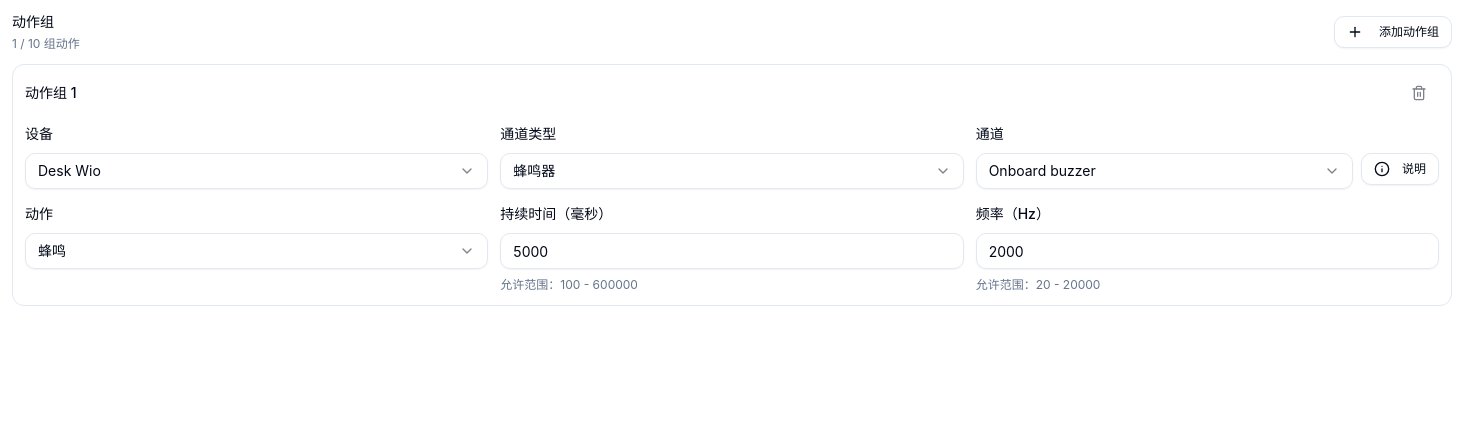
Scenario: DeviceChannelOutputFields › adds pattern action for legacy Wio buzzer channel from device extension capability
Step 1. Click the dropdown named "动作" → (52, 250), box [25, 233, 488, 269]
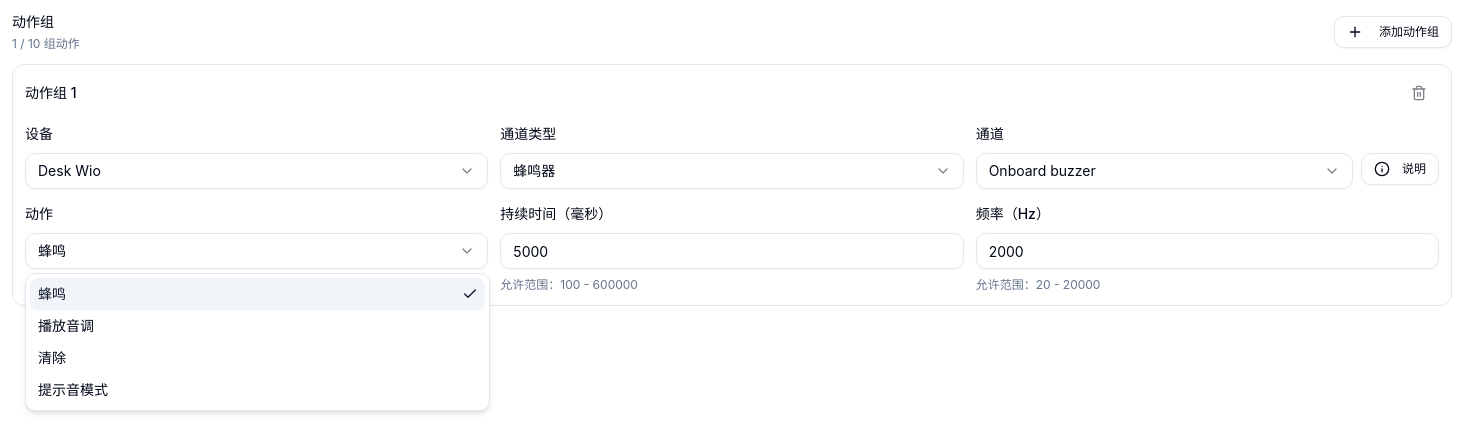
Expected: the option "提示音模式" is shown, [38, 381, 108, 398]
